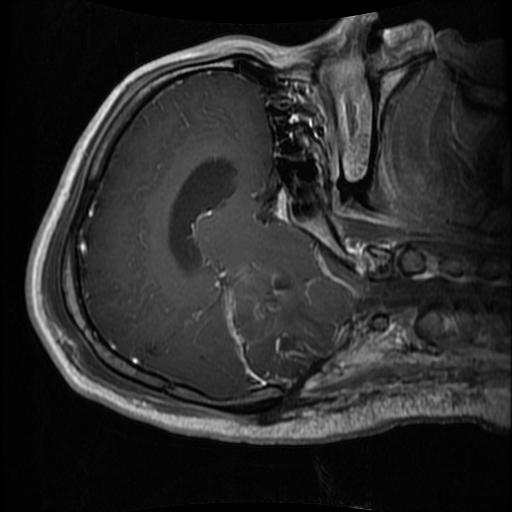glioma: (228, 264, 339, 371)
